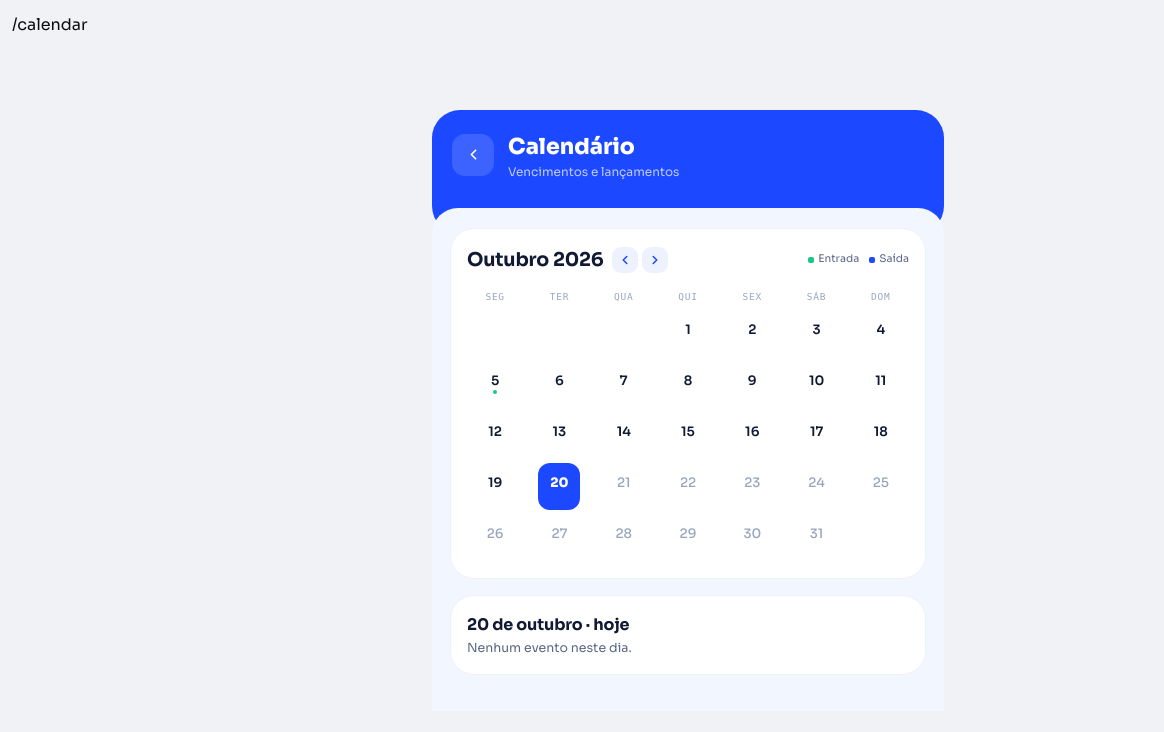
Test: Calendário — mês e dias › tocar noutro dia mostra os eventos dele; tocar de novo desmarca; dia sem nada avisa
Click the button named "5 de outubro" at (495, 385), box [474,361,516,408]
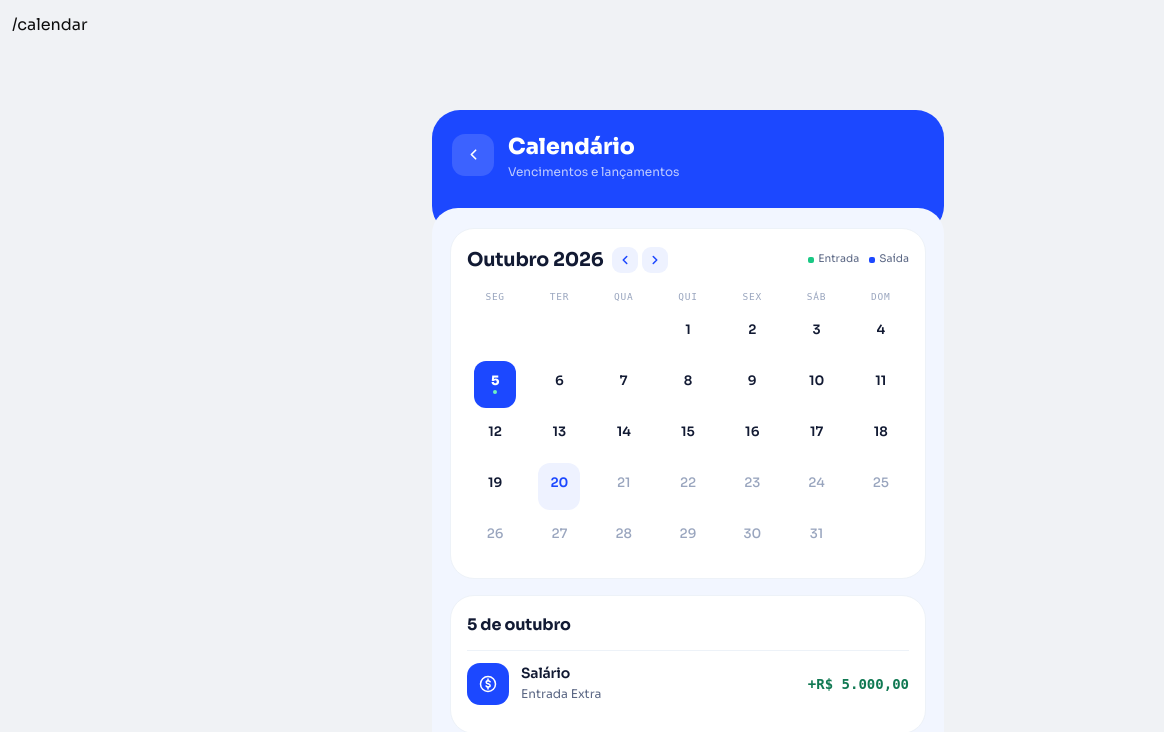
Now the heading "5 de outubro" is shown, box [467,614,571,635]
Now the text "Salário" is shown, box [521,664,570,682]
Now the text "+R$ 5.000,00" is shown, box [808,672,909,695]
Click the button "6" at (559, 385), box [538,361,580,408]
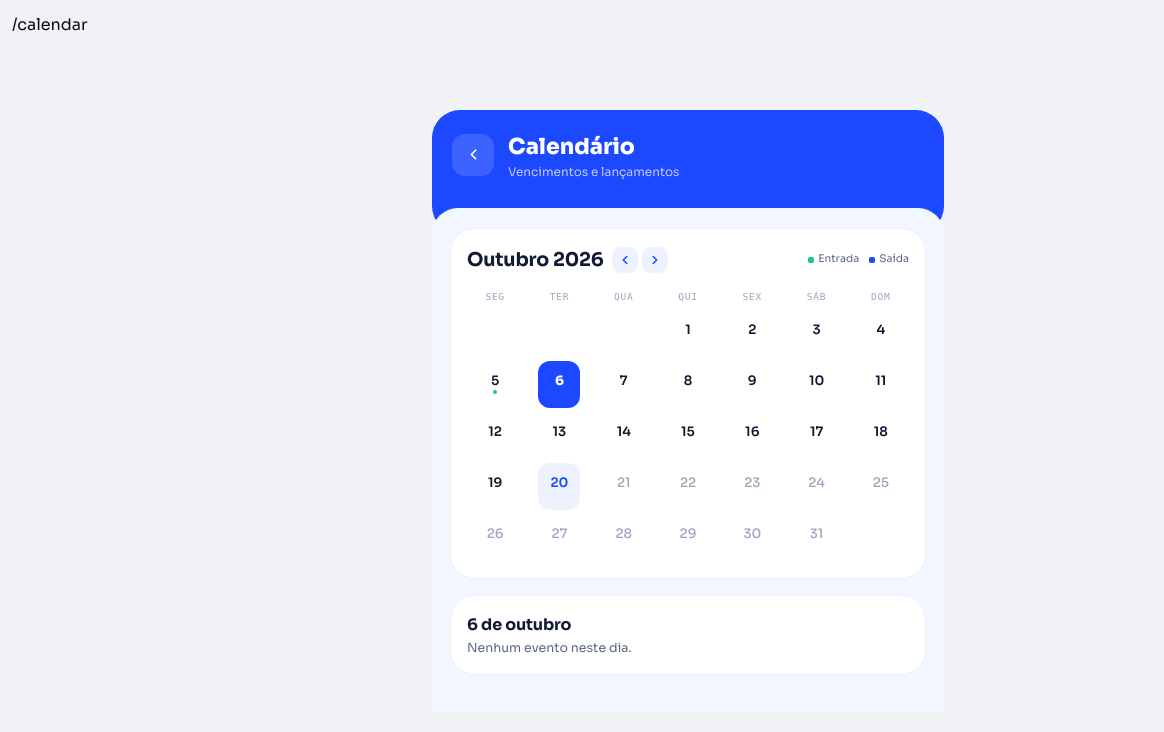
Now the text "Nenhum evento neste dia." is shown, box [467,640,632,656]
Click the button "6" at (559, 385), box [538,361,580,408]
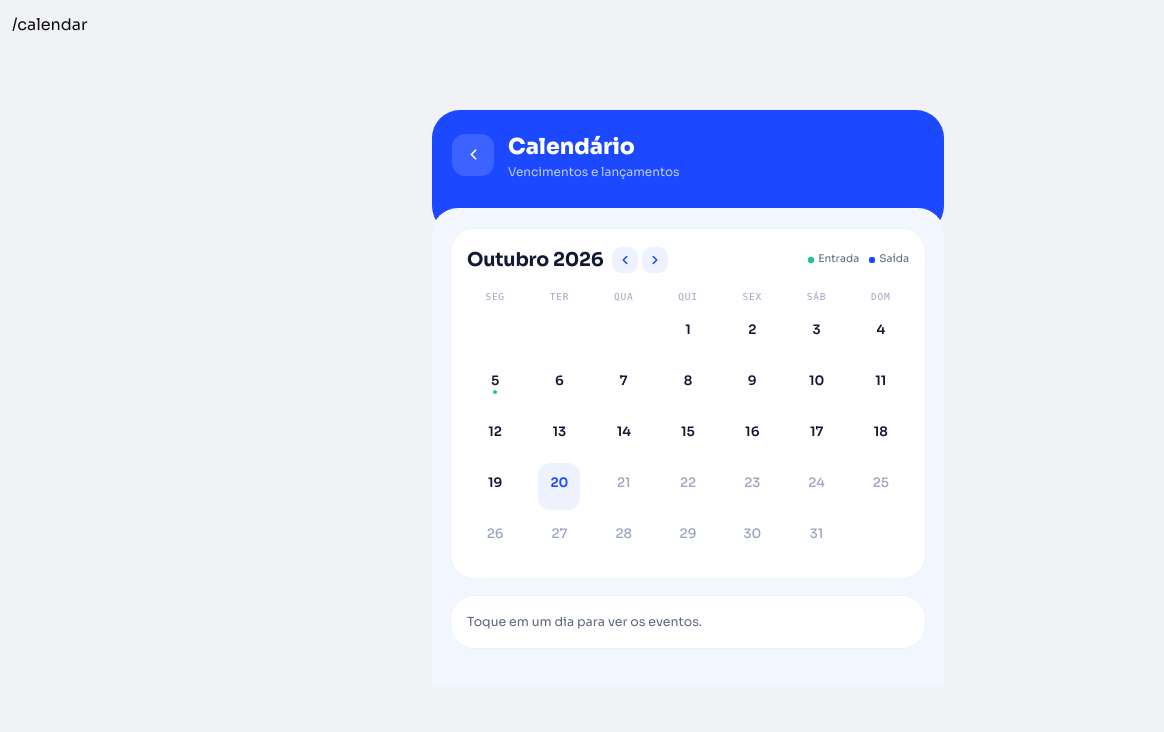
Now the text "Toque em um dia para ver os eventos." is shown, box [467,614,702,630]
